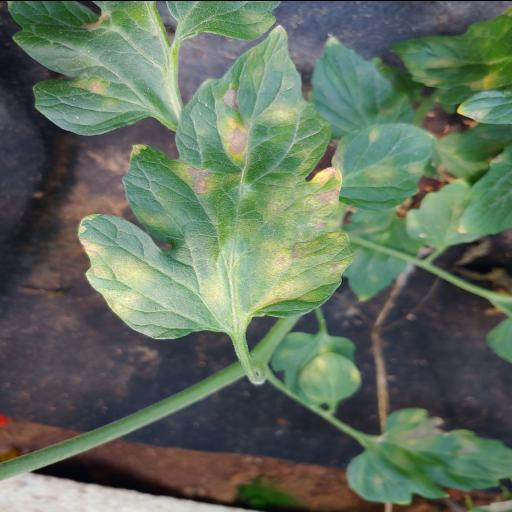disease_tomato: (76, 24, 356, 340), (330, 122, 440, 212)
